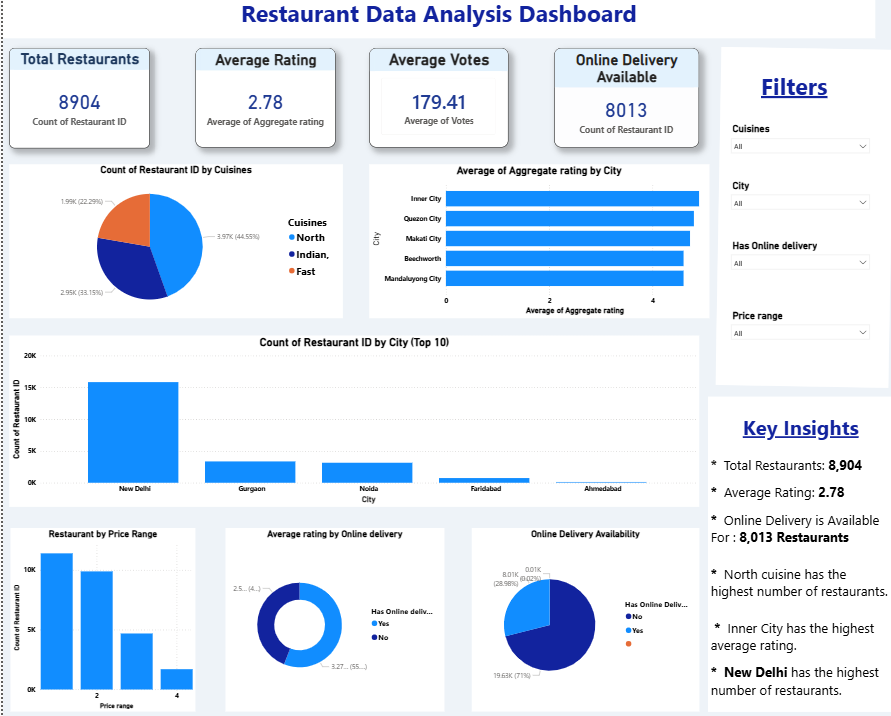

The page's visual inventory and layout, read from the dashboard file:
{"tool":"powerbi","page":{"name":"dashboard","canvas":[1650,1350],"ordinal":10},"visuals":[{"type":"shape","box":[1293.1,749.7,341.6,577.8],"z":0},{"type":"shape","box":[1306.9,91.7,327.9,658],"z":1000},{"type":"textbox","box":[0,10.4,1599.6,80.8],"z":2000},{"type":"card","title":"Total Restaurants","fields":{"Values":["CountNonNull(Dataset.Restaurant ID)"]},"box":[12.2,109.4,257.9,183.7],"z":3000},{"type":"card","title":"Average Rating","fields":{"Values":["Avg(Dataset.Aggregate rating)"]},"box":[352.2,109.8,256.9,182.3],"z":4000},{"type":"cardVisual","title":"Average Votes","fields":{"Data":["Avg(Dataset.Votes)"]},"box":[671.3,109.8,254.9,182.3],"z":5000},{"type":"card","title":"Online Delivery Available","fields":{"Values":["CountNonNull(Dataset.Restaurant ID)"]},"box":[1011.1,109.8,265.2,182.3],"z":6000},{"type":"clusteredBarChart","fields":{"Category":["Dataset.City"],"Y":["Avg(Dataset.Aggregate rating)"]},"box":[671.8,323.3,623.6,282],"z":7000},{"type":"pieChart","fields":{"Category":["Dataset.Cuisines"],"Y":["CountNonNull(Dataset.Restaurant ID)"]},"box":[11.5,323.3,612.2,282],"z":8000},{"type":"clusteredColumnChart","title":"Count of Restaurant  ID by  City (Top 10)","fields":{"Category":["Dataset.City"],"Y":["CountNonNull(Dataset.Restaurant ID)"]},"box":[11.5,637.4,1265.6,314.1],"z":9000},{"type":"columnChart","title":"Restaurant by Price Range","fields":{"Category":["Dataset.Price range"],"Y":["CountNonNull(Dataset.Restaurant ID)"]},"box":[13.8,990.5,339.3,337],"z":10000},{"type":"donutChart","title":"Average rating by Online delivery","fields":{"Category":["Dataset.Has Online delivery"],"Y":["Avg(Dataset.Aggregate rating)"]},"box":[408.1,990.5,401.2,337],"z":11000},{"type":"pieChart","title":"Online Delivery Availability","fields":{"Category":["Dataset.Has Online delivery"],"Y":["CountNonNull(Dataset.Restaurant ID)"]},"box":[859.8,990.5,417.3,337],"z":12000},{"type":"slicer","fields":{"Values":["Dataset.City"]},"box":[1325.2,346.2,275.1,94],"z":13000},{"type":"slicer","title":"Cuisiness","fields":{"Values":["Dataset.Cuisines"]},"box":[1325.2,243,275.1,103.2],"z":14000},{"type":"slicer","fields":{"Values":["Dataset.Has Online delivery"]},"box":[1325.2,456.3,275.1,94],"z":15000},{"type":"slicer","fields":{"Values":["Dataset.Price range"]},"box":[1325.2,584.7,275.1,103.2],"z":16000},{"type":"textbox","box":[1325.2,144.4,252.2,98.6],"z":17000},{"type":"textbox","box":[1293.8,775,340,61.8],"z":17001},{"type":"textbox","box":[1293.1,836.9,341.6,490.7],"z":17002}]}

Visuals, with their boxes in screenshot pixels (x1, y1, x2, y2), scaled from the page's 1650x1350 canvas onto the 891x716 screenshot:
shape: bbox=(698, 398, 883, 704)
shape: bbox=(706, 49, 883, 398)
textbox: bbox=(0, 6, 864, 48)
"Total Restaurants" card: bbox=(7, 58, 146, 155)
"Average Rating" card: bbox=(190, 58, 329, 155)
"Average Votes" cardVisual: bbox=(363, 58, 500, 155)
"Online Delivery Available" card: bbox=(546, 58, 689, 155)
clusteredBarChart - Dataset.City x Avg(Dataset.Aggregate rating): bbox=(363, 171, 700, 321)
pieChart - Dataset.Cuisines x CountNonNull(Dataset.Restaurant ID): bbox=(6, 171, 337, 321)
"Count of Restaurant  ID by  City (Top 10)" clusteredColumnChart: bbox=(6, 338, 690, 505)
"Restaurant by Price Range" columnChart: bbox=(7, 525, 191, 704)
"Average rating by Online delivery" donutChart: bbox=(220, 525, 437, 704)
"Online Delivery Availability" pieChart: bbox=(464, 525, 690, 704)
slicer - Dataset.City: bbox=(716, 184, 864, 233)
"Cuisiness" slicer: bbox=(716, 129, 864, 184)
slicer - Dataset.Has Online delivery: bbox=(716, 242, 864, 292)
slicer - Dataset.Price range: bbox=(716, 310, 864, 365)
textbox: bbox=(716, 77, 852, 129)
textbox: bbox=(699, 411, 882, 444)
textbox: bbox=(698, 444, 883, 704)
